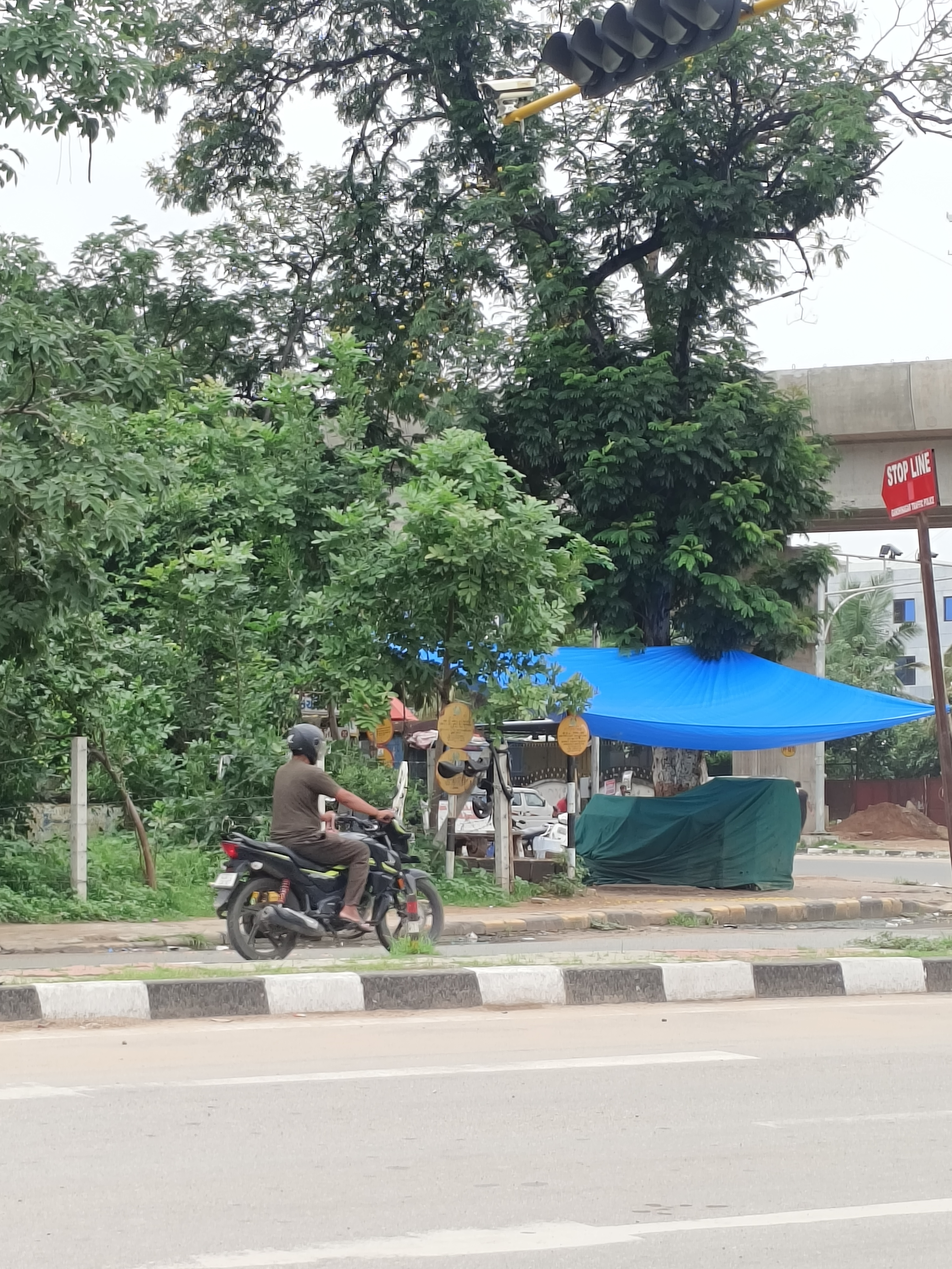BikeWithRider: (203, 715, 452, 970)
Helmet: (279, 719, 330, 771)
